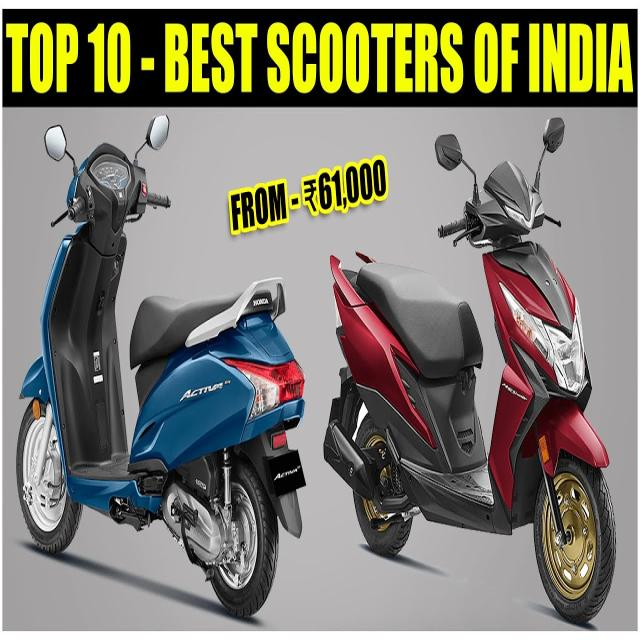motorcycle: (324, 118, 616, 622), (15, 116, 305, 617)
